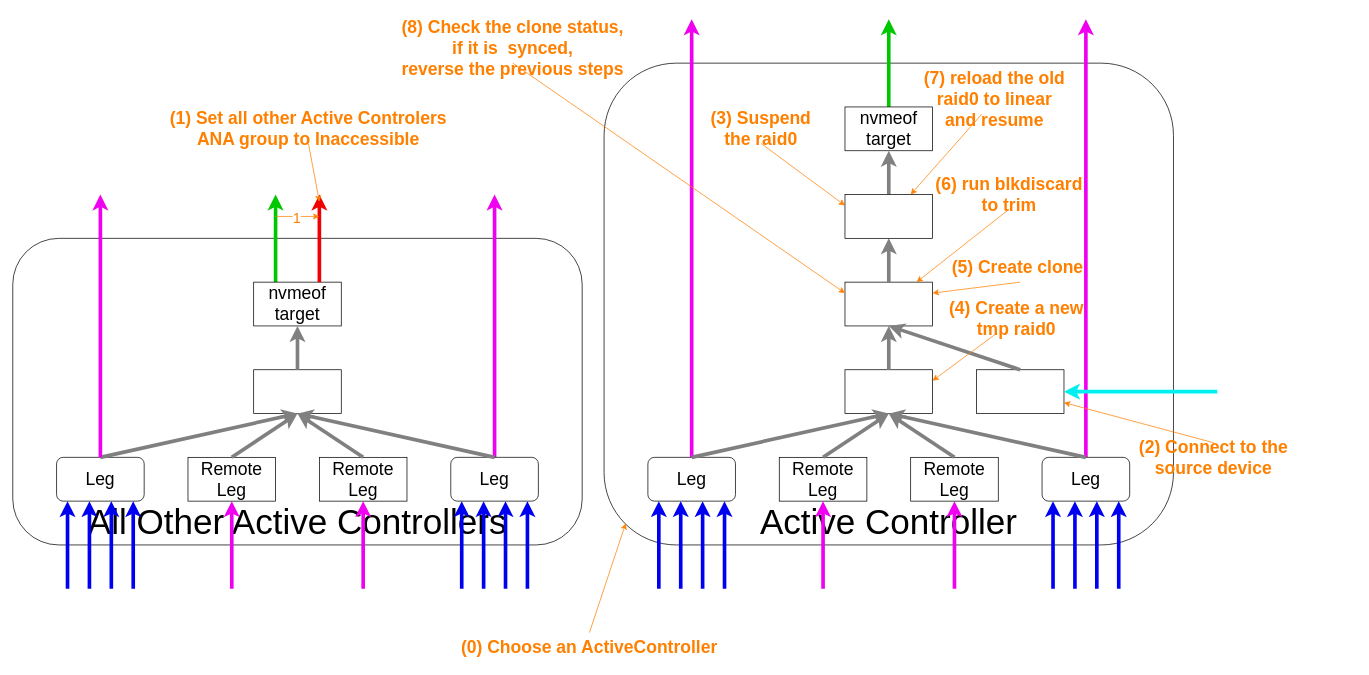
The diagram is 1369 pixels wide and 675 high, and some of its shapes have lost their labels. The shapes that lost their labels are listed below. From the top down, each one's centre as x and y in pixels, then its label:
(x=888, y=216): raid0 linear
(x=888, y=303): clone
(x=297, y=391): raid0 flakey
(x=888, y=391): tmp raid0
(x=1020, y=391): src dev
